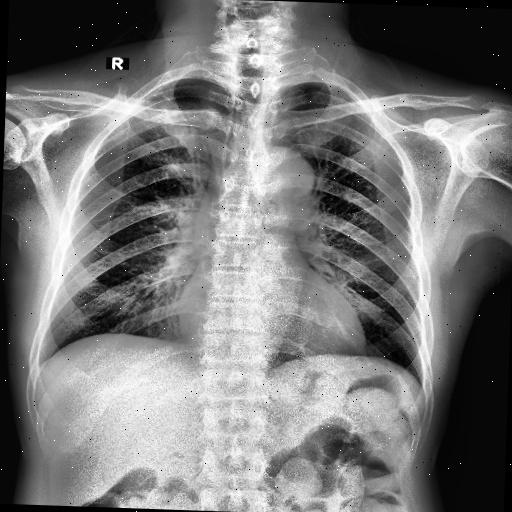0- Aortic enlargement: (246, 146, 314, 206), (246, 143, 316, 200), (260, 146, 316, 194)
